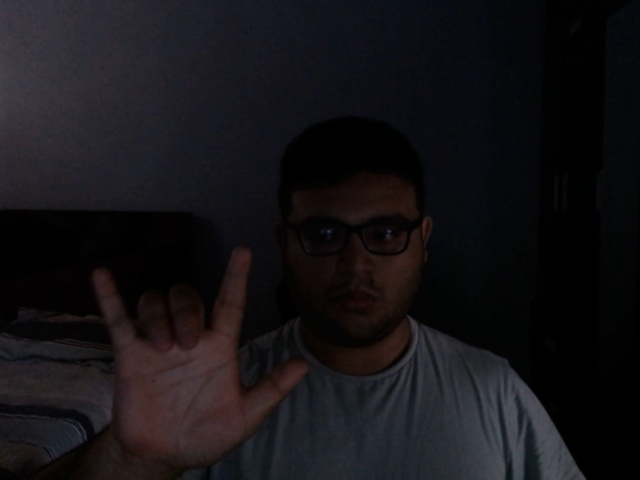I love you: (85, 241, 305, 473)
